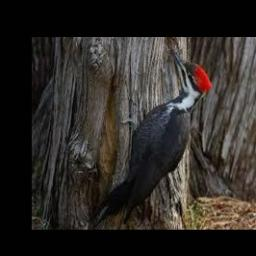Woodpecker: (93, 46, 214, 227)
